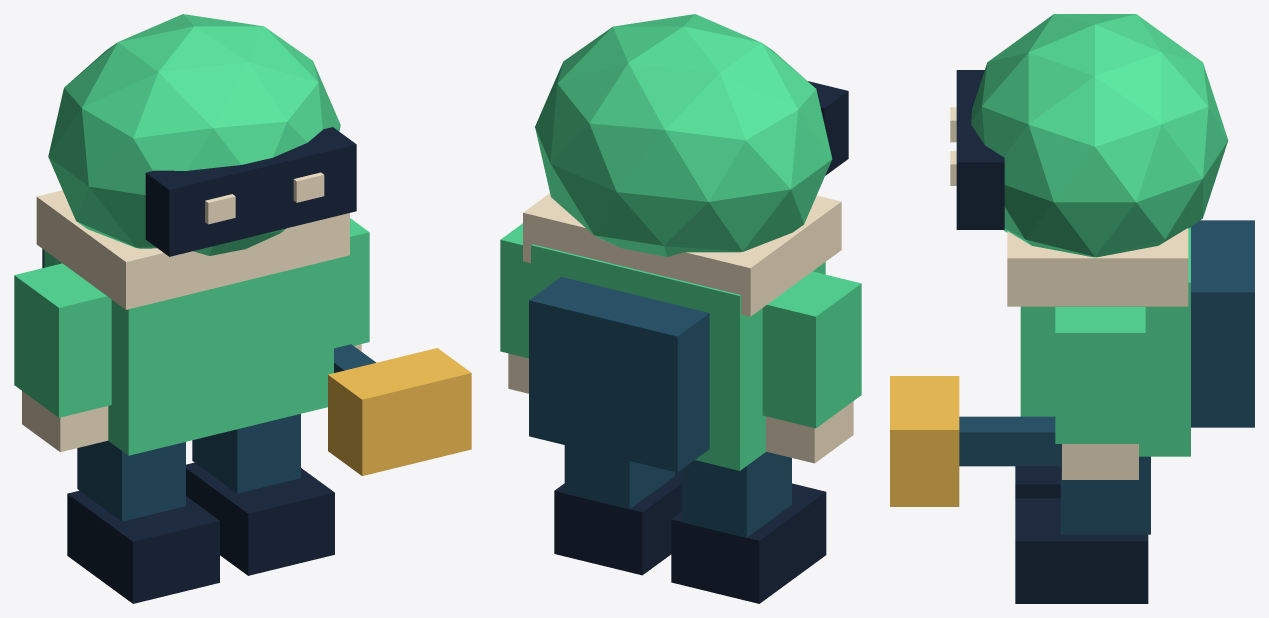
Rendered from repairer-green.glb.
3 renders of one model, left to right at view 1: azimuth 30°, elevation 25°; view 2: azimuth 150°, elevation 25°; view 3: azimuth 270°, elevation 25°, orthographic.
Parts seen in each view (by area): view 1: Helmet, Jacket, Visor, Scarf, Hammer Head, Sleeve, Boot, Boot.001, Trouser, Trouser.001, Sleeve.001, Glove (+3 smaller); view 2: Helmet, Kit, Jacket, Sleeve, Scarf, Boot, Boot.001, Trouser, Trouser.001, Sleeve.001, Glove, Visor (+1 smaller); view 3: Helmet, Kit, Sleeve.001, Jacket, Boot.001, Scarf, Hammer Head, Visor, Trouser.001, Hammer Handle, Glove.001, Boot.
Part boxes in pixels (x1,y1,x2,y2): Helmet: [48, 14, 340, 255]; Jacket: [44, 250, 333, 455]; Visor: [145, 127, 356, 256]; Scarf: [36, 190, 349, 309]; Hammer Head: [328, 348, 471, 475]; Sleeve: [14, 263, 111, 417]; Boot: [67, 490, 219, 603]; Boot.001: [186, 462, 334, 575]; Trouser: [77, 440, 185, 521]; Trouser.001: [192, 414, 300, 493]; Sleeve.001: [334, 218, 369, 348]; Glove: [22, 391, 108, 452]; Helmet: [535, 14, 832, 256]; Kit: [529, 277, 709, 472]; Jacket: [531, 244, 825, 470]; Sleeve: [762, 271, 861, 428]; Scarf: [523, 193, 841, 316]; Boot: [671, 483, 826, 603]; Boot.001: [554, 470, 681, 575]; Trouser: [681, 451, 791, 537]; Trouser.001: [564, 445, 674, 509]; Sleeve.001: [500, 223, 530, 358]; Glove: [766, 401, 853, 463]; Visor: [808, 81, 848, 175]; Helmet: [971, 14, 1228, 257]; Kit: [1191, 220, 1254, 427]; Sleeve.001: [1055, 307, 1145, 443]; Jacket: [1020, 227, 1190, 456]; Boot.001: [1015, 498, 1148, 603]; Scarf: [1007, 228, 1188, 306]; Hammer Head: [890, 376, 959, 506]; Visor: [956, 70, 1004, 229]; Trouser.001: [1060, 456, 1150, 534]; Hammer Handle: [959, 416, 1061, 466]; Glove.001: [1062, 444, 1138, 479]; Boot: [1015, 466, 1060, 498].
Bounding box in the file's own units: 0.725 × 1.1 × 0.685.
